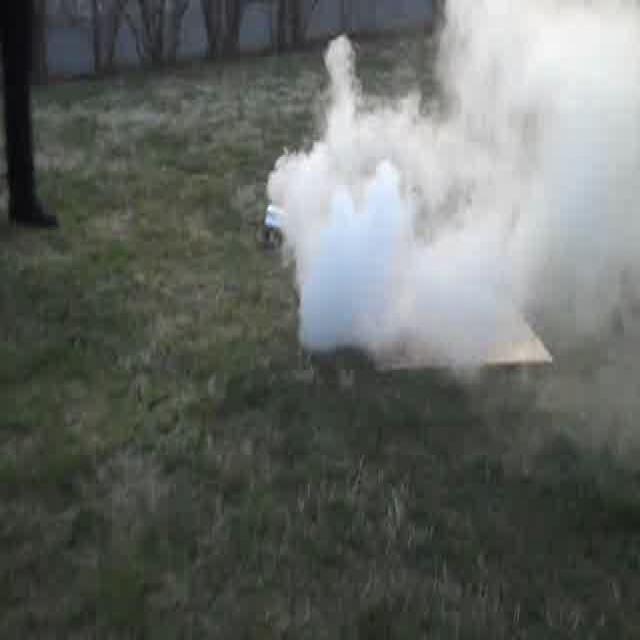Smoke: (295, 42, 625, 338)
